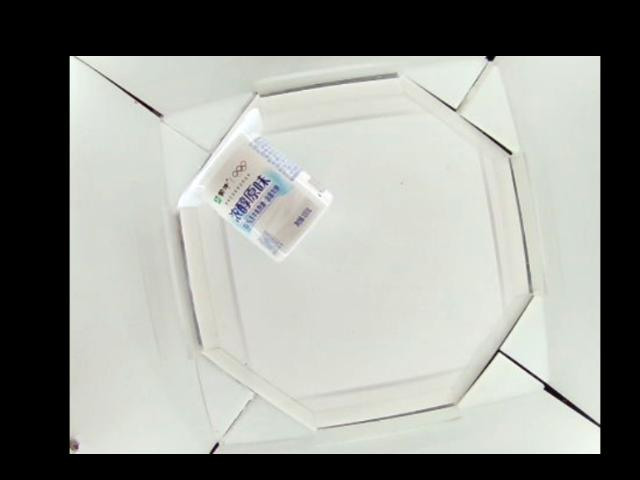Cup: (175, 109, 332, 259)
